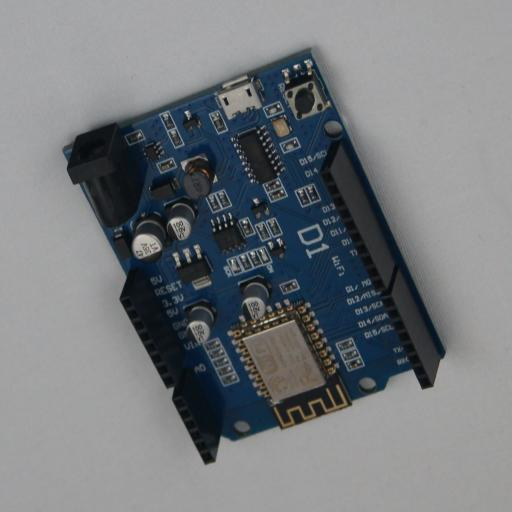Arduino Uno WiFi Shield: (62, 48, 446, 464)
